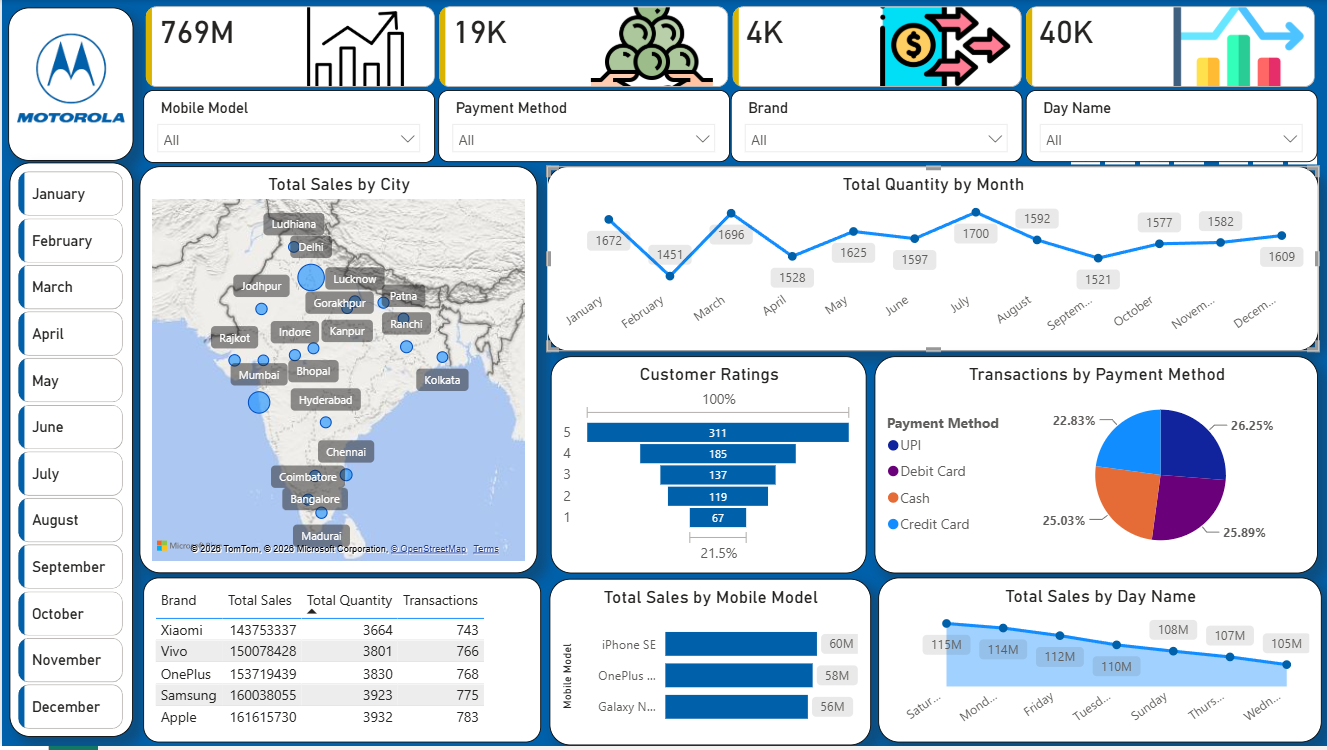

The page's visual inventory and layout, read from the dashboard file:
{"tool":"powerbi","page":{"name":"Page 1","canvas":[1280,720],"ordinal":0},"visuals":[{"type":"shape","box":[5.5,6.9,120.8,148.2],"z":0},{"type":"image","box":[9.6,16.5,113.9,116.6],"z":1000},{"type":"shape","box":[6.9,156.4,119.4,554.4],"z":2000},{"type":"advancedSlicerVisual","fields":{"Values":["Sales_Data.Date.Variation.Date Hierarchy.Month"]},"box":[11,160.5,111.1,548.9],"z":3000},{"type":"cardVisual","fields":{"Data":["Sales_Data.Total Sales","Sales_Data.Total Quantity","Sales_Data.Transactions","Sales_Data.Average"]},"box":[134,5.6,1140.1,83.7],"z":4000},{"type":"map","fields":{"Category":["Sales_Data.City"],"Size":["Sales_Data.Total Sales"]},"box":[132.9,160.8,384.1,393.1],"z":5000},{"type":"lineChart","fields":{"Category":["Sales_Data.Date.Variation.Date Hierarchy.Month","Sales_Data.Date.Variation.Date Hierarchy.Day"],"Y":["Sales_Data.Total Quantity"]},"box":[525.9,160.8,744.8,178.7],"z":6000},{"type":"clusteredBarChart","fields":{"Category":["Sales_Data.Mobile Model"],"Y":["Sales_Data.Total Sales"]},"box":[528.3,558.5,310.1,160.5],"z":7000},{"type":"pieChart","fields":{"Category":["Sales_Data.Payment Method"],"Y":["Sales_Data.Transactions"]},"box":[842.5,344.4,428.1,209.9],"z":8000},{"type":"funnel","title":"Customer Ratings","fields":{"Category":["Sales_Data.Customer Ratings"],"Y":["CountNonNull(Sales_Data.Customer Ratings)"]},"box":[529.7,344.4,304.6,209.9],"z":9000},{"type":"areaChart","fields":{"Category":["Sales_Data.Day Name"],"Y":["Sales_Data.Total Sales"]},"box":[845.3,557.1,428.1,159.2],"z":10000},{"type":"tableEx","fields":{"Values":["Sales_Data.Brand","Sales_Data.Total Sales","Sales_Data.Total Quantity","Sales_Data.Transactions"]},"box":[135.8,557.1,384.2,159.2],"z":11000},{"type":"slicer","fields":{"Values":["Sales_Data.Mobile Model"]},"box":[136.2,87.1,281.4,70.3],"z":12000},{"type":"slicer","fields":{"Values":["Sales_Data.Payment Method"]},"box":[421,87.1,281.4,69.2],"z":13000},{"type":"slicer","fields":{"Values":["Sales_Data.Brand"]},"box":[703.5,87.1,281.4,69.2],"z":14000},{"type":"slicer","fields":{"Values":["Sales_Data.Day Name"]},"box":[988.2,87.1,281.4,69.2],"z":15000}]}

Visuals, with their boxes in screenshot pixels (x1, y1, x2, y2), scaled from the page's 1280x720 canvas onto the 1327x750 screenshot:
shape: select_region(6, 7, 131, 162)
image: select_region(10, 17, 128, 139)
shape: select_region(7, 163, 131, 740)
advancedSlicerVisual - Sales_Data.Date.Variation.Date Hierarchy.Month: select_region(11, 167, 127, 739)
cardVisual - Sales_Data.Total Sales x Sales_Data.Total Quantity: select_region(139, 6, 1321, 93)
map - Sales_Data.City x Sales_Data.Total Sales: select_region(138, 168, 536, 577)
lineChart - Sales_Data.Date.Variation.Date Hierarchy.Month x Sales_Data.Date.Variation.Date Hierarchy.Day: select_region(545, 168, 1317, 354)
clusteredBarChart - Sales_Data.Mobile Model x Sales_Data.Total Sales: select_region(548, 582, 869, 749)
pieChart - Sales_Data.Payment Method x Sales_Data.Transactions: select_region(873, 359, 1317, 577)
"Customer Ratings" funnel: select_region(549, 359, 865, 577)
areaChart - Sales_Data.Day Name x Sales_Data.Total Sales: select_region(876, 580, 1320, 746)
tableEx - Sales_Data.Brand x Sales_Data.Total Sales: select_region(141, 580, 539, 746)
slicer - Sales_Data.Mobile Model: select_region(141, 91, 433, 164)
slicer - Sales_Data.Payment Method: select_region(436, 91, 728, 163)
slicer - Sales_Data.Brand: select_region(729, 91, 1021, 163)
slicer - Sales_Data.Day Name: select_region(1024, 91, 1316, 163)
